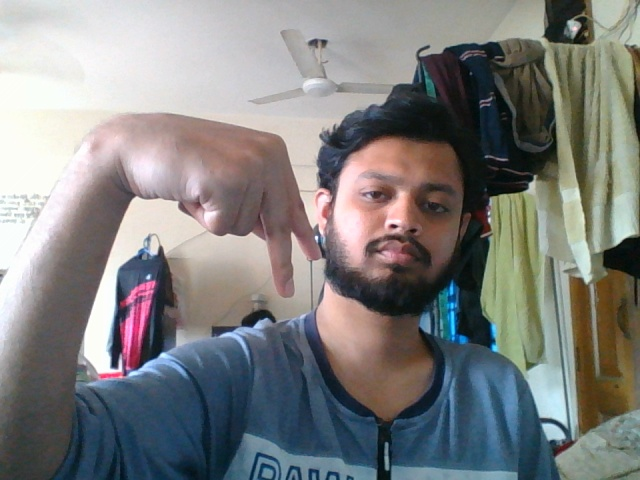pa: (112, 106, 325, 300)
